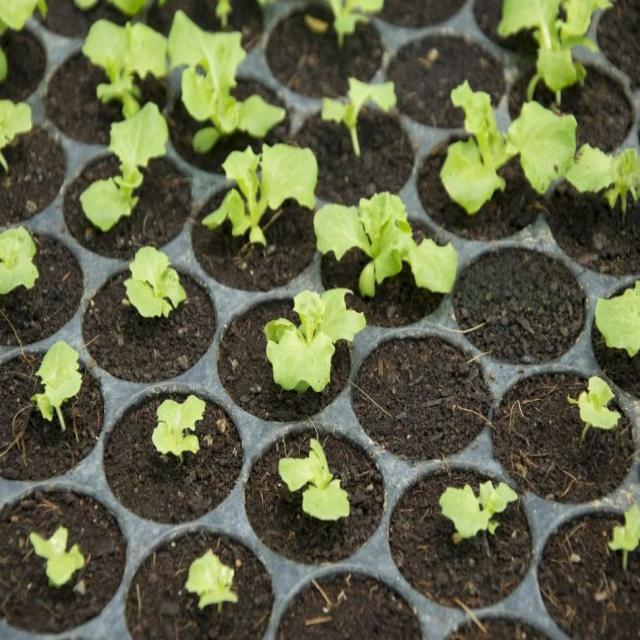Lettuce-Not-Ready-to-Harvest: (318, 181, 452, 310), (447, 79, 570, 212), (172, 20, 284, 143), (205, 143, 318, 260), (84, 86, 169, 230), (264, 289, 362, 396), (276, 436, 352, 524), (320, 73, 396, 159), (442, 477, 518, 543), (147, 388, 209, 466)
